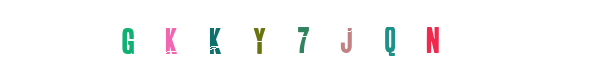7: (219, 0, 299, 80)
G: (177, 0, 257, 80)
J: (255, 0, 335, 80)
K: (198, 0, 278, 80), (210, 0, 290, 80)
N: (392, 0, 472, 80)
Q: (292, 0, 372, 80)
Y: (217, 0, 297, 80)
